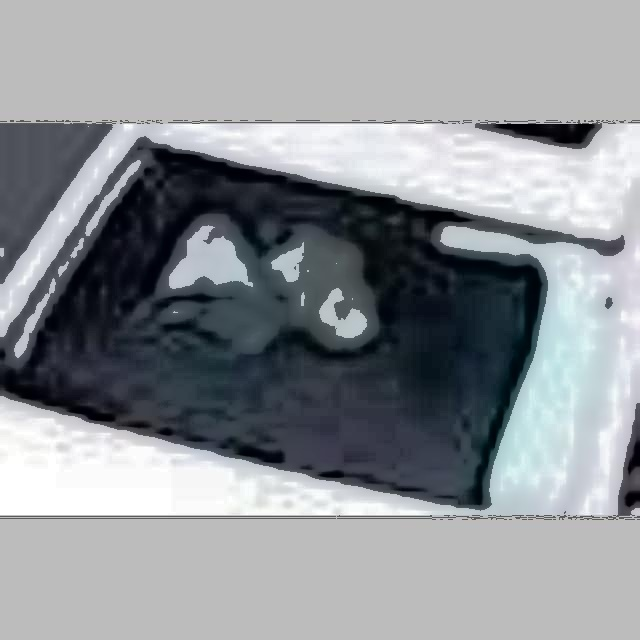pakai: (135, 174, 384, 401)
